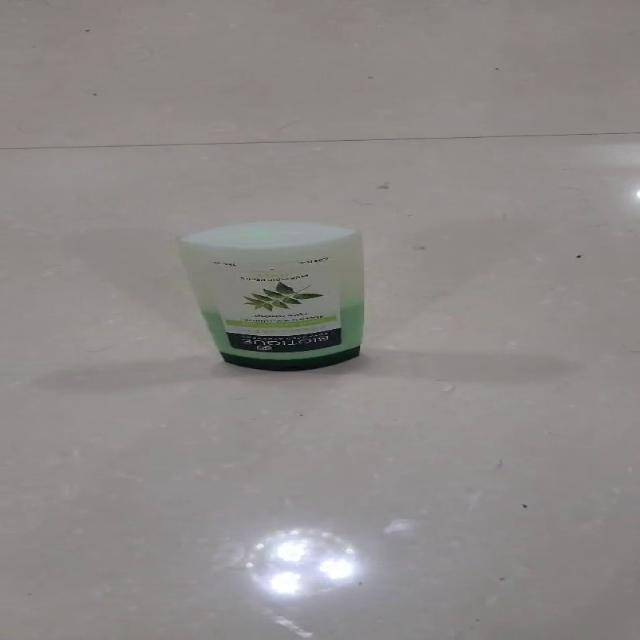plastic: (176, 219, 364, 371)
